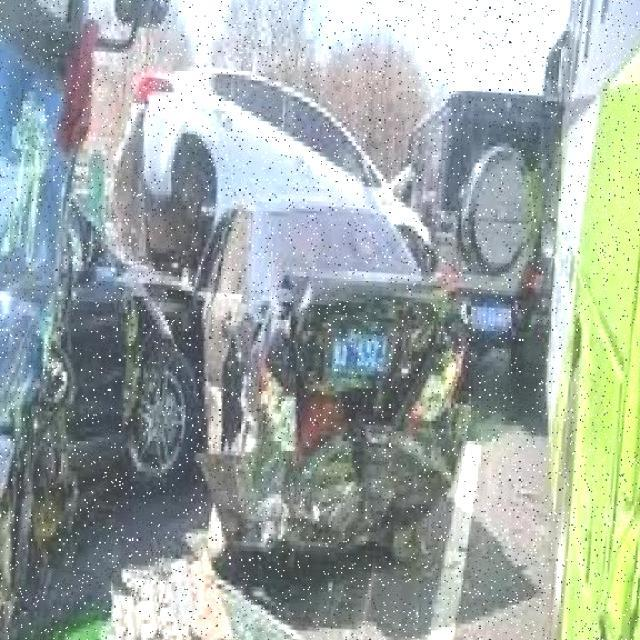accident: (0, 32, 267, 640), (153, 164, 508, 610)
